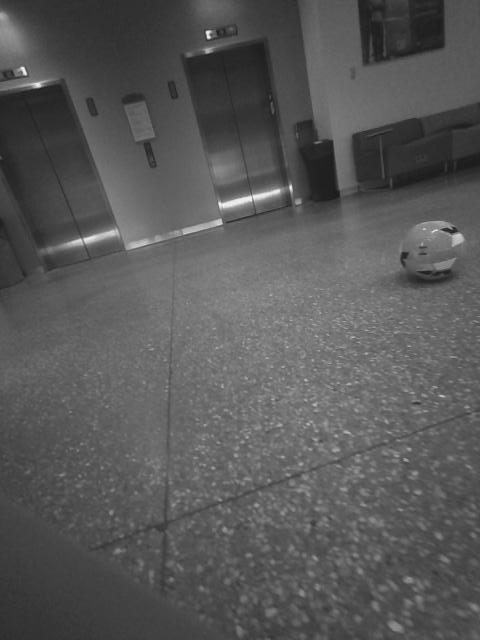ball: (393, 213, 467, 287)
